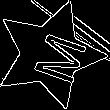M_W: (17, 24, 83, 85)
